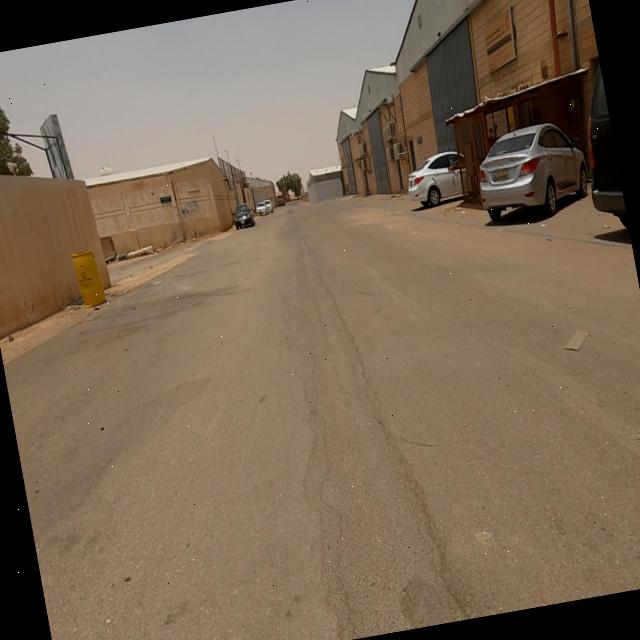Graffiti: (180, 201, 201, 220)
